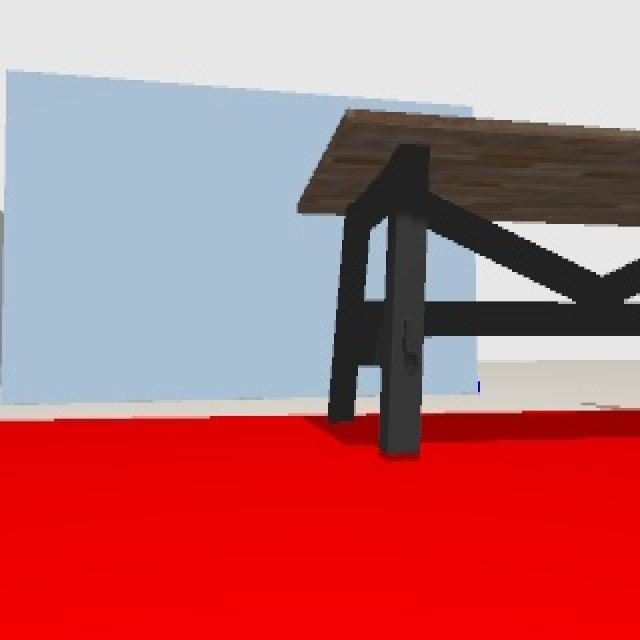dining: (296, 104, 640, 459)
